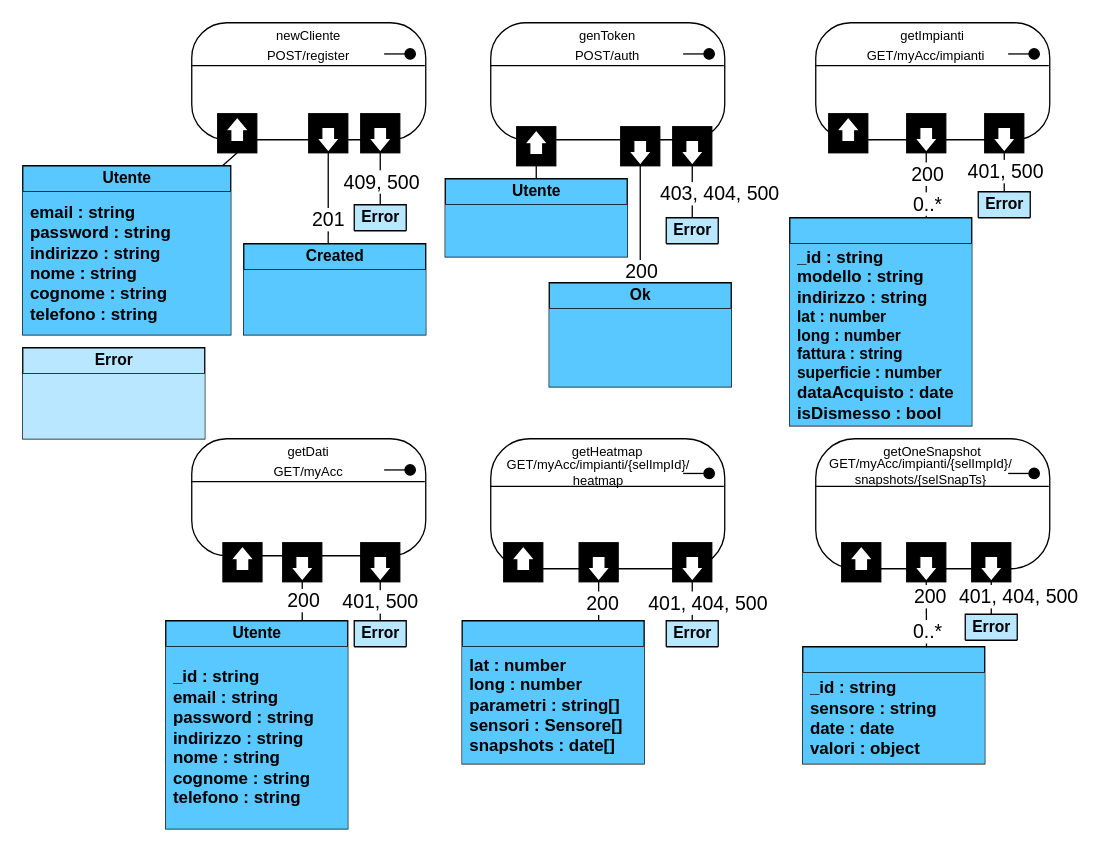
Some shapes in this 1100 by 851 pixel diagram are drawn without their labels. The shapes that lost their labels are listed below. From the top down, each one's box as (x1, y1, x2, y2) in pixels, then its label:
(445, 204, 627, 256): email : string password: string
(243, 269, 425, 334): messsage : string _id : string
(788, 216, 972, 426): Impianto
(549, 308, 731, 386): token : string email : string _id : string ruolo : string
(22, 373, 204, 438): code : number message : string
(461, 619, 644, 764): Heatmap
(801, 645, 985, 764): Misurazione
